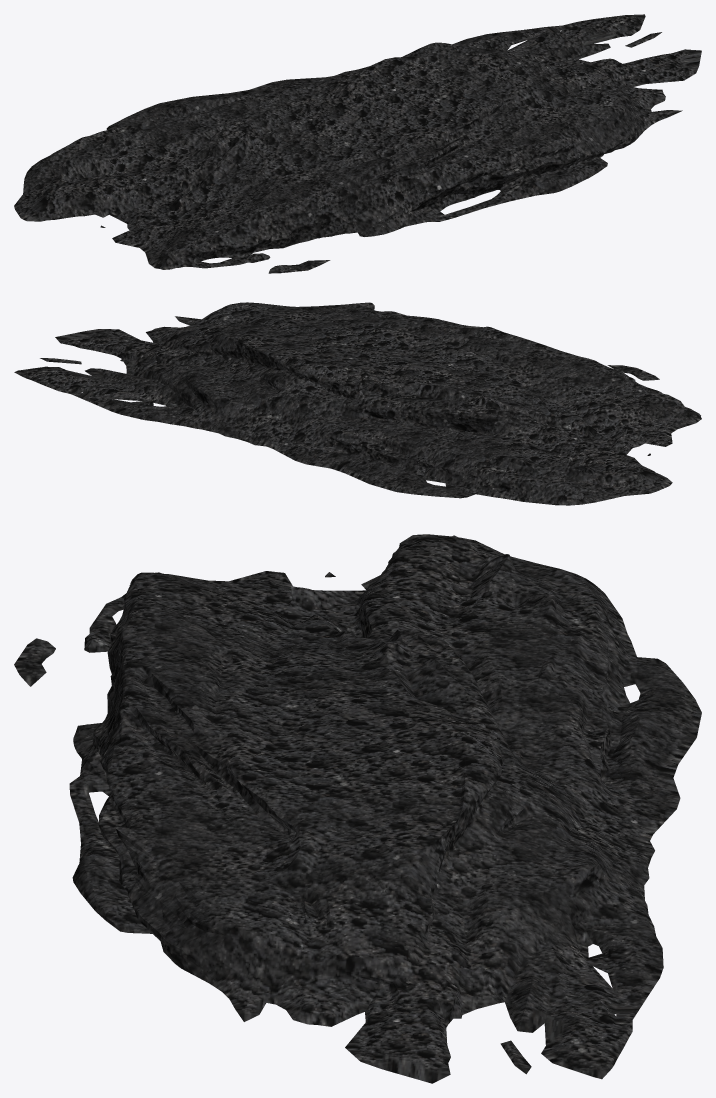
The model's file is ArtistVolcanicRock04.fbx.
The picture shows the model from 3 angles, top to bottom: view 1: azimuth 30°, elevation 25°; view 2: azimuth 150°, elevation 25°; view 3: azimuth 270°, elevation 25°; orthographic projection. The views are drawn at different scales.
Parts seen in each view (by area): view 1: ArtistVolcanicRock04_LOD0; view 2: ArtistVolcanicRock04_LOD0; view 3: ArtistVolcanicRock04_LOD0.
Part boxes in pixels (x1,y1,x2,y2): ArtistVolcanicRock04_LOD0: (14,14,701,273); ArtistVolcanicRock04_LOD0: (14,302,701,505); ArtistVolcanicRock04_LOD0: (14,534,701,1083).
Size of what is drawn, in the model's own units: 3.42 by 0.2507 by 1.81.
Materials: 1 (1 with a texture image).
